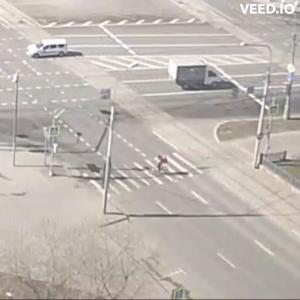car: (168, 62, 226, 89), (25, 40, 69, 59)
